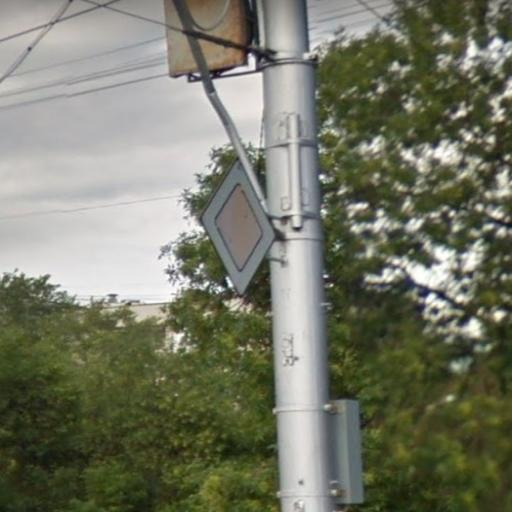traffic_sign: (200, 157, 281, 301)
